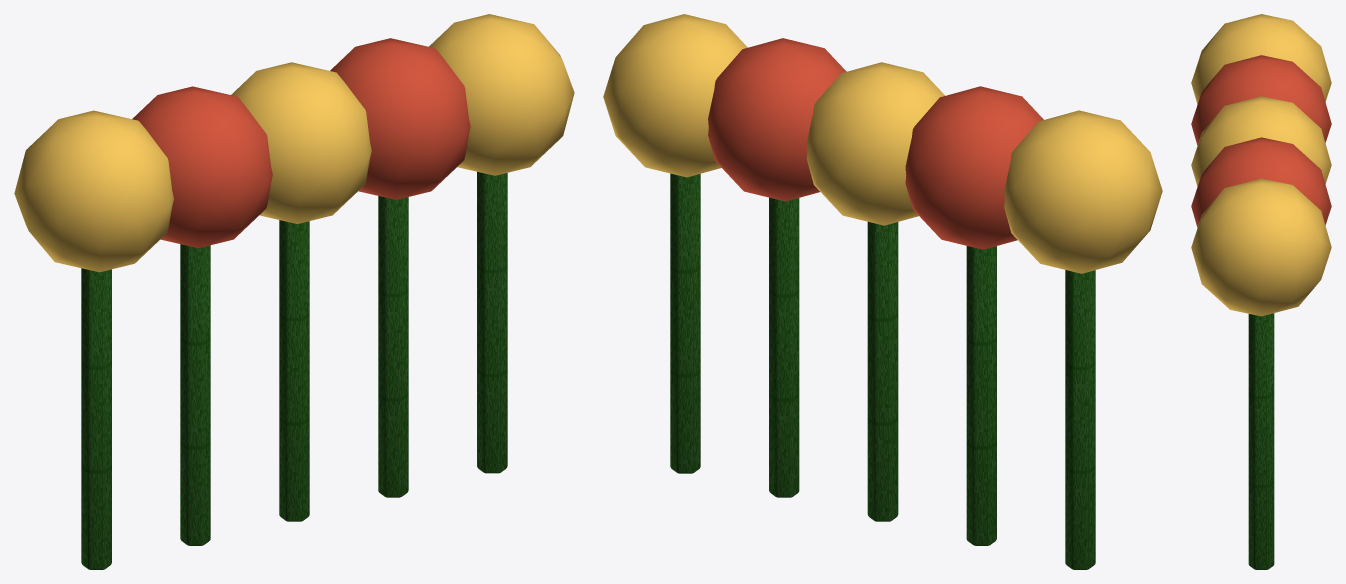
The model's file is flowers.glb.
The picture shows the model from 3 angles, left to right: view 1: azimuth 30°, elevation 25°; view 2: azimuth 150°, elevation 25°; view 3: azimuth 270°, elevation 25°; orthographic projection. The views are drawn at different scales.
Parts seen in each view (by area): view 1: flowers_gold, flowers_leaf, flowers_red; view 2: flowers_gold, flowers_leaf, flowers_red; view 3: flowers_gold, flowers_red, flowers_leaf.
Boxes of the visible parts, x1,y1,x2,y2 form: flowers_gold: (14,14,574,272); flowers_leaf: (81,171,507,569); flowers_red: (132,38,470,248); flowers_gold: (603,14,1162,273); flowers_leaf: (670,173,1095,569); flowers_red: (708,38,1043,249); flowers_gold: (1191,14,1331,316); flowers_red: (1191,55,1331,227); flowers_leaf: (1248,313,1274,569).
Size of the model in its own units: 0.9673 by 0.78 by 0.26.
3 materials, 1 textured.
